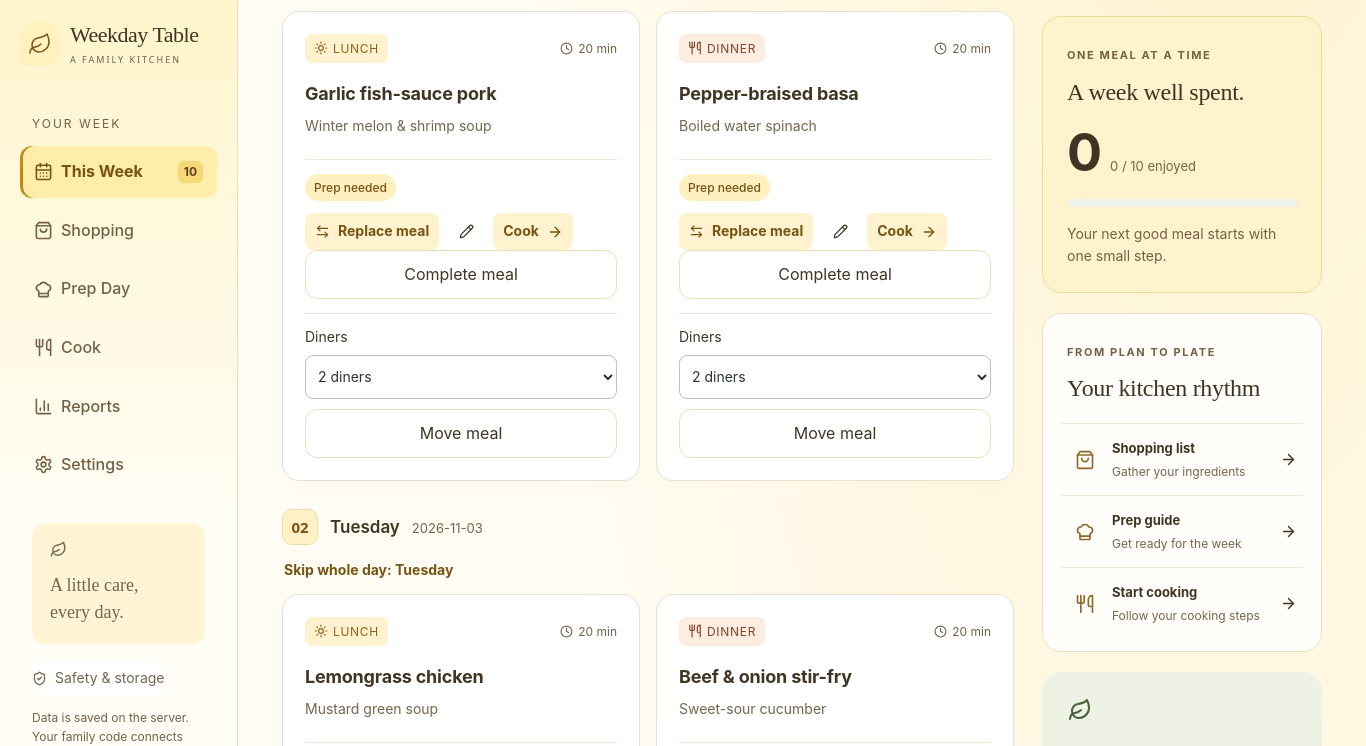
reconciles a revision conflict without overwriting another device
(page scrolled)
Expected: the navigation bar is shown, top-left (20, 146), bottom-right (217, 491)
Select "Not eating at home" in the dropdown named "Diners: Monday · Lunch" at x=461, y=377, box top-left (305, 355), bottom-right (617, 399)
(page scrolled)
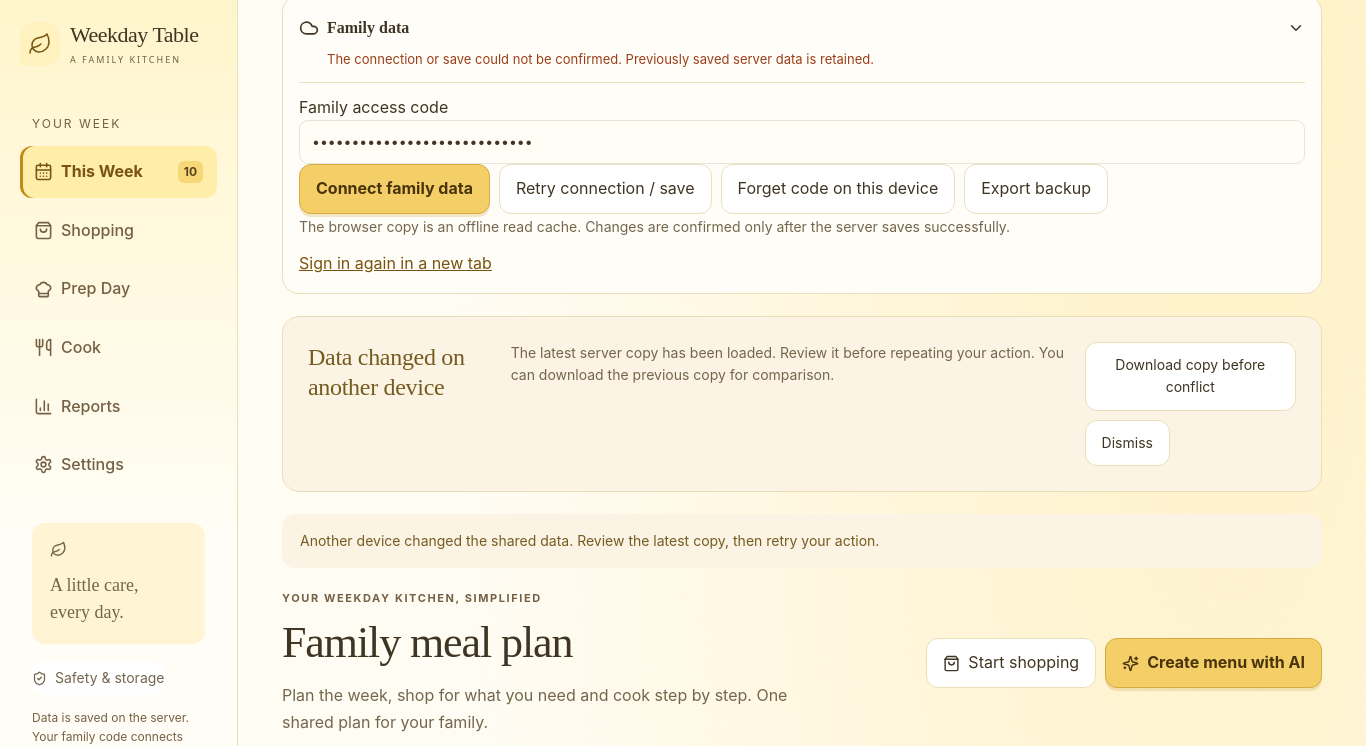
Expected: the heading "Data changed on another device" is shown, top-left (308, 344), bottom-right (465, 400)
Expected: the button "Download copy before conflict" is shown, top-left (1085, 342), bottom-right (1296, 411)
